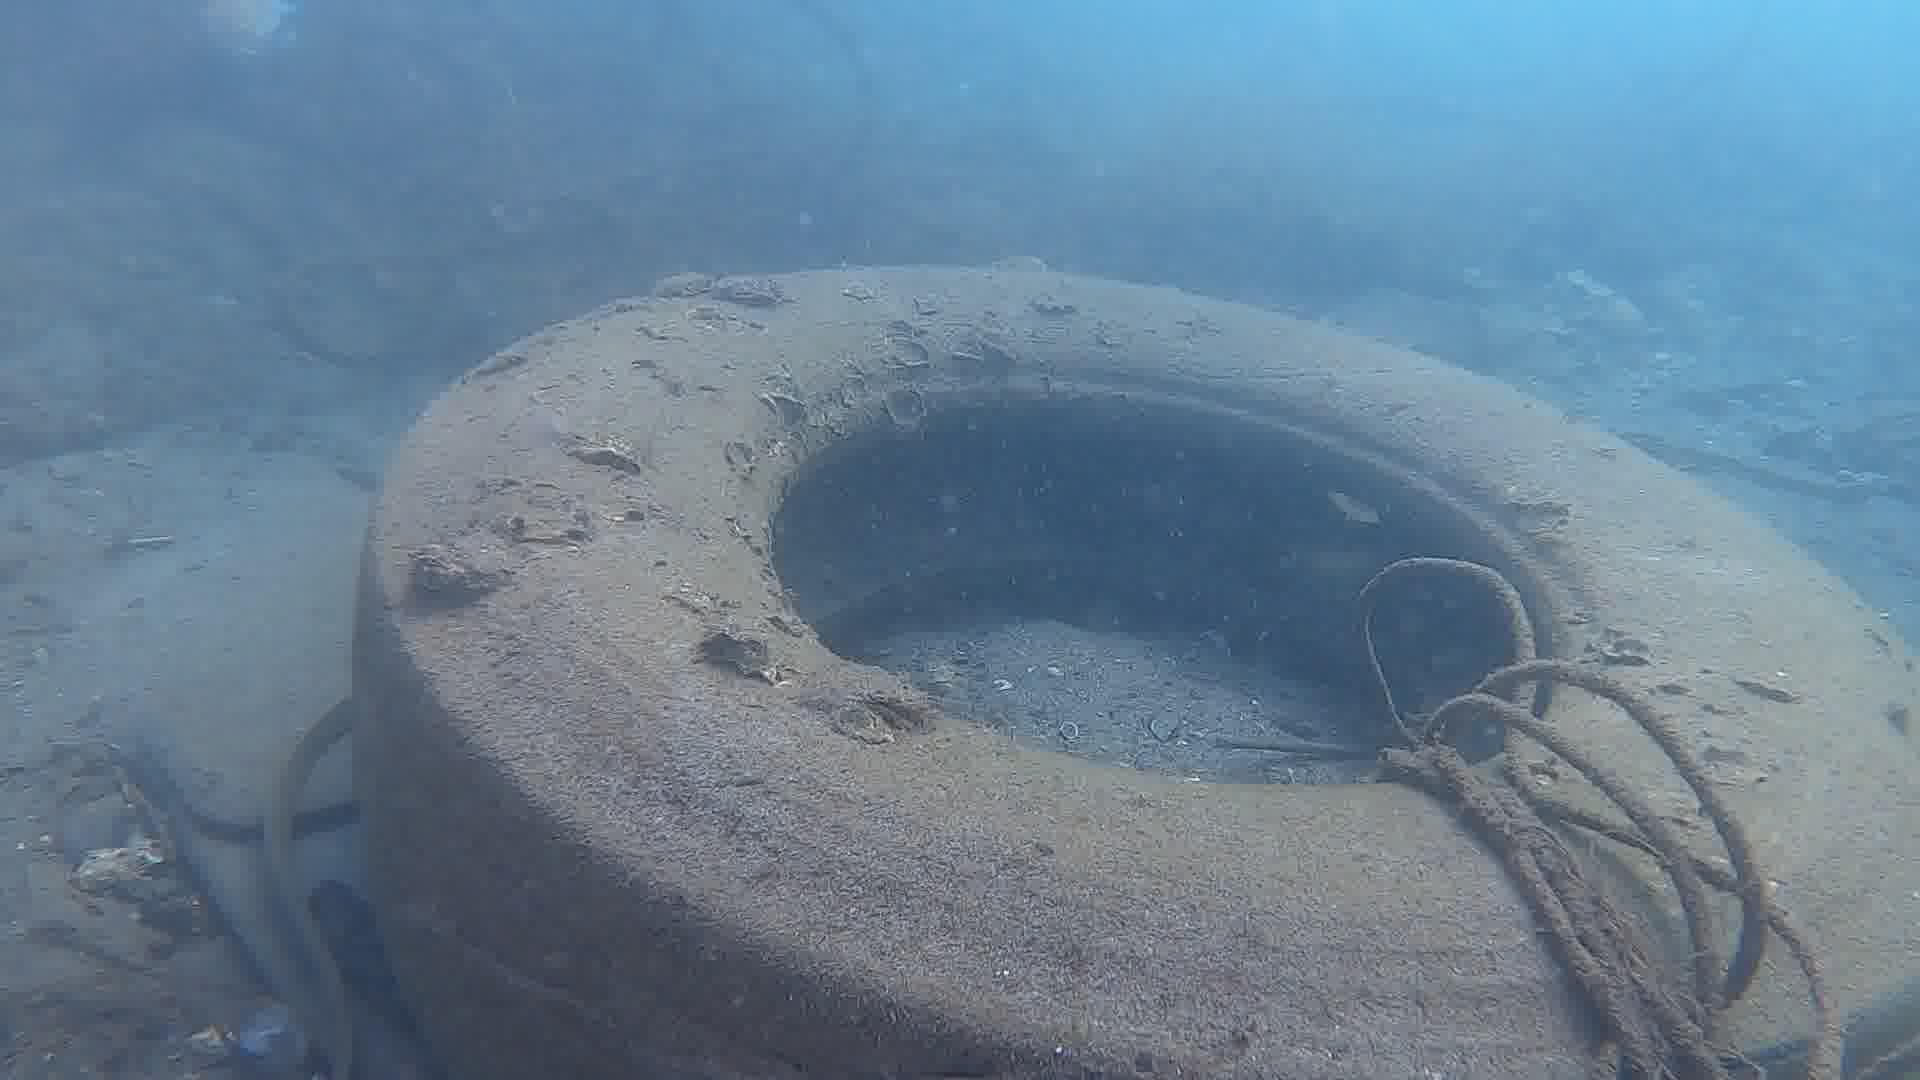bundle of ropes: (1352, 555, 1847, 1080)
tire: (351, 264, 1920, 1080)
